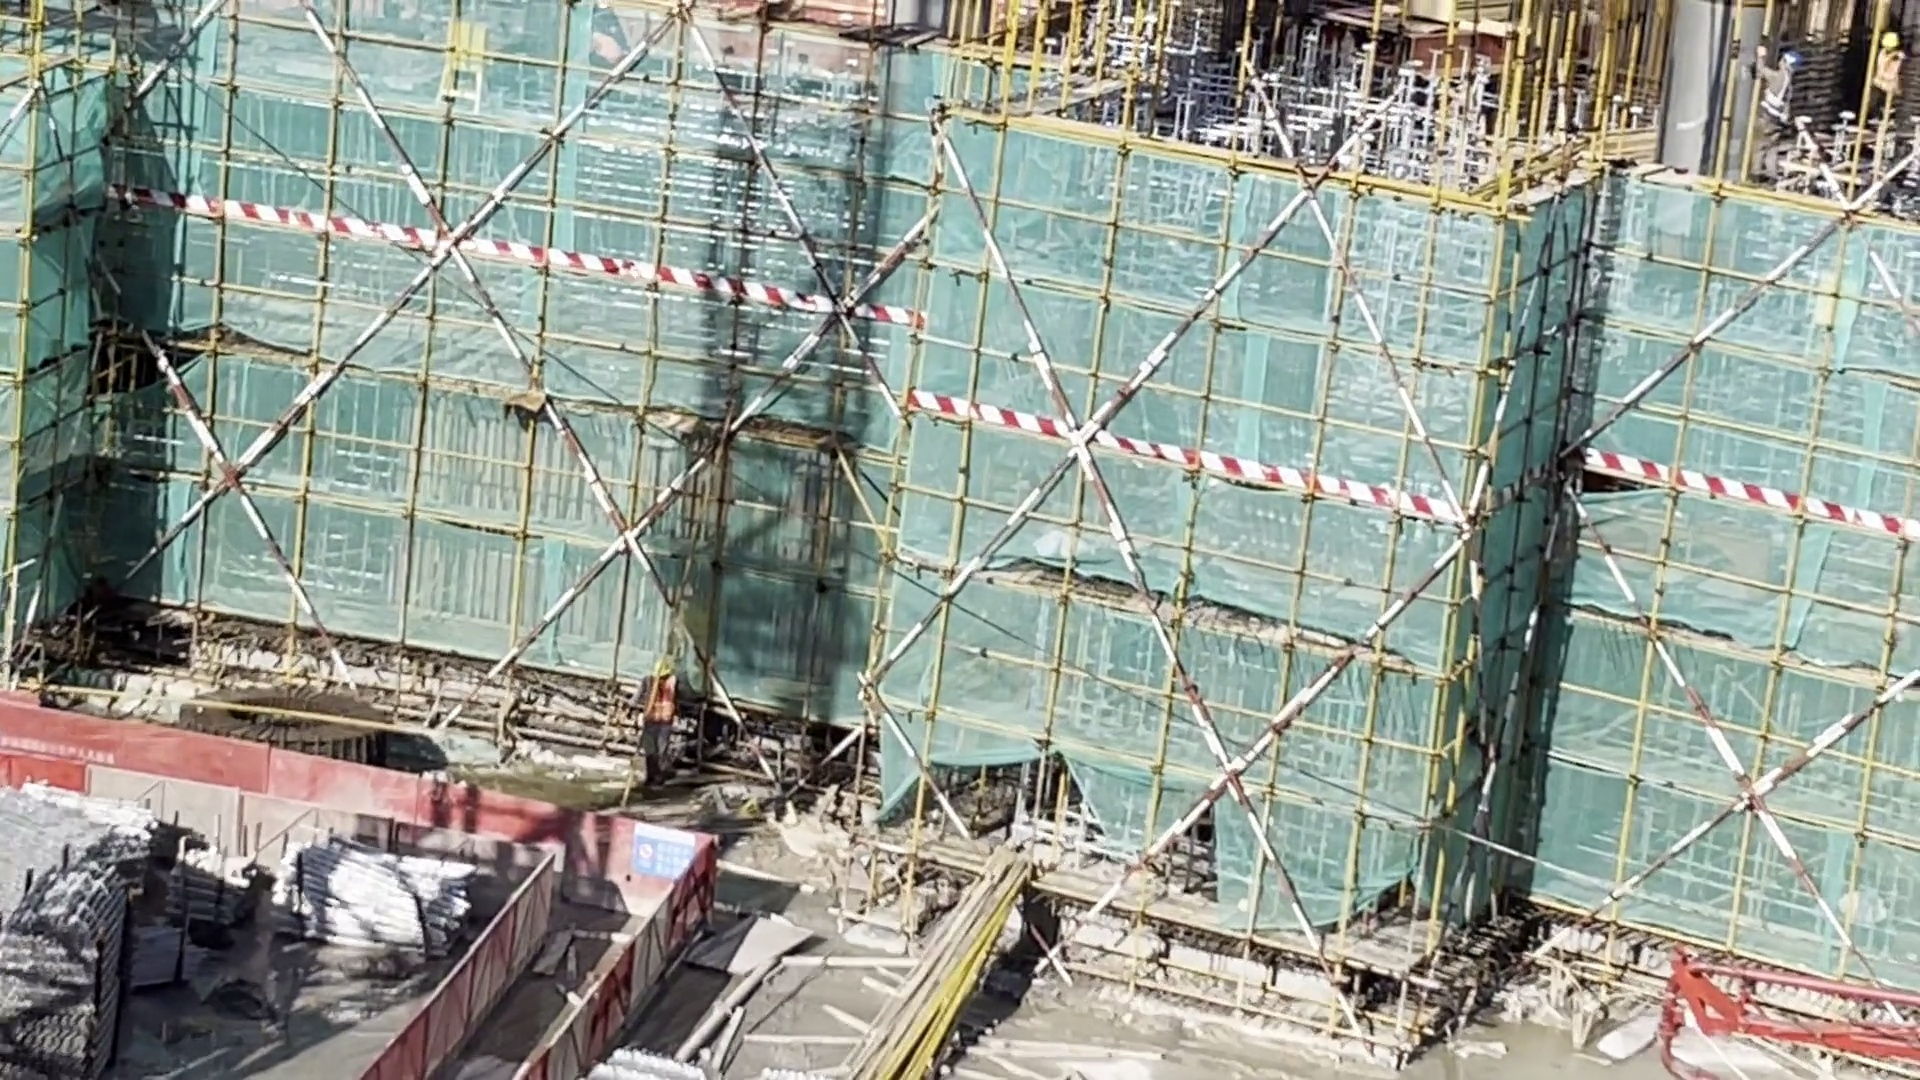fence: (2, 692, 624, 907), (362, 872, 681, 1080)
helmet: (656, 658, 673, 681), (1882, 32, 1898, 45)
person: (636, 657, 674, 792), (1758, 50, 1798, 174), (1876, 33, 1904, 122)
scaffold: (2, 873, 117, 1079), (1, 786, 159, 908), (279, 853, 459, 953), (177, 846, 244, 933)
slogan: (628, 820, 697, 887)
vest: (643, 676, 673, 720), (1875, 50, 1898, 91), (1769, 83, 1793, 118)
